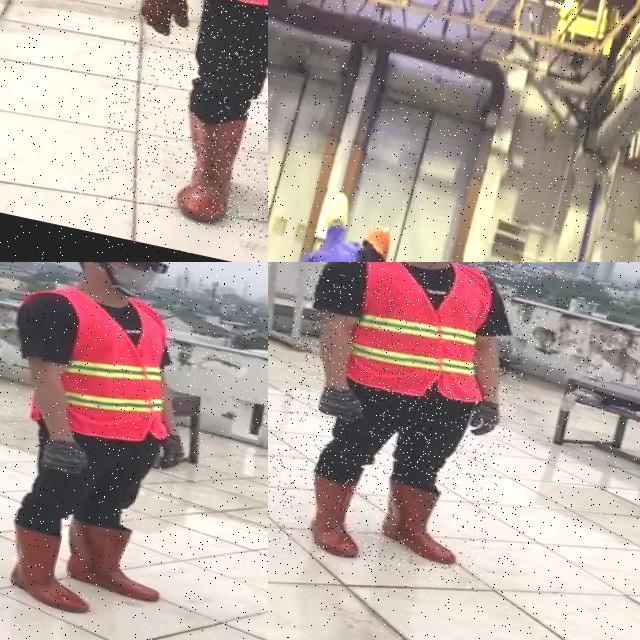boots: (57, 517, 196, 607), (0, 517, 103, 616), (372, 474, 478, 569), (165, 111, 249, 227), (296, 466, 378, 560)
helmet: (362, 221, 395, 262)
vest: (0, 273, 188, 449), (326, 262, 508, 409)
